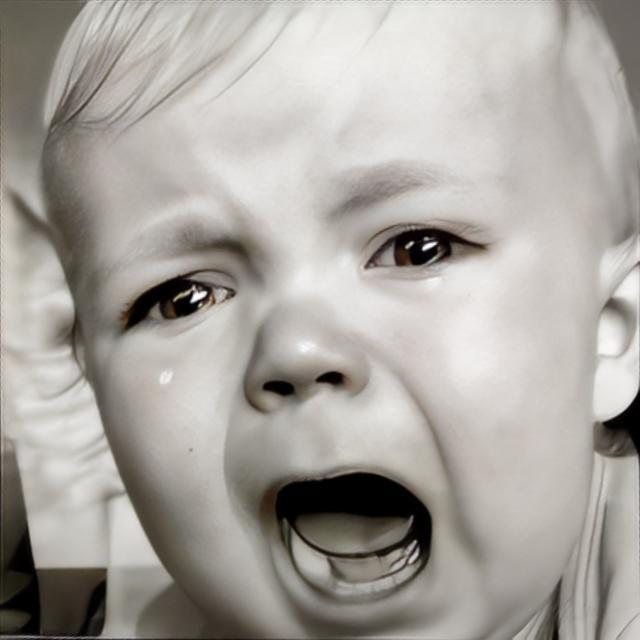fear: (43, 0, 594, 637)
